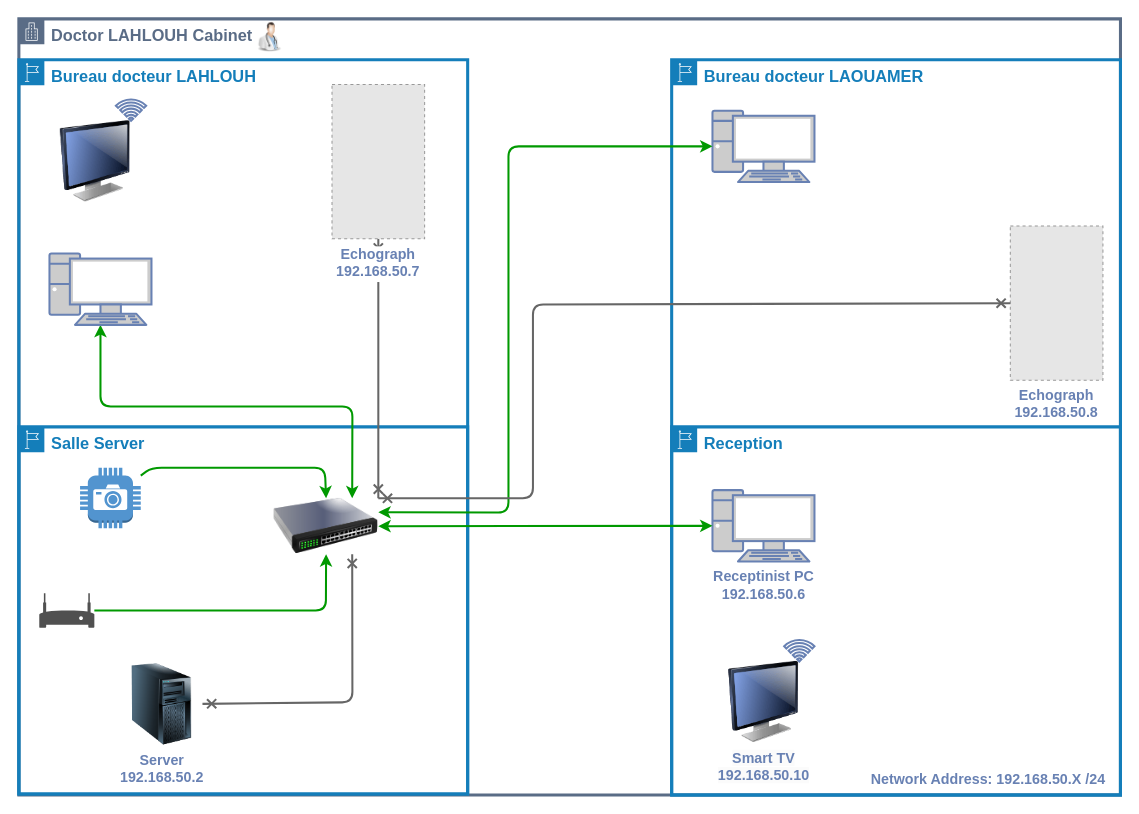
The diagram is 1139 pixels wide and 814 high, and some of its shapes have lost their labels. Grey dashed boxes stand in for pictures. Here are the shapes that lost their labels. From the top down, the centre of each, then its label:
At pixel 95 161: "Smart TV 192.168.50.9".
At pixel 763 146: "Doctor PC 192.168.50.5".
At pixel 100 288: "Doctor PC 192.168.50.4".
At pixel 110 497: "DVR Camera de Surveillance 192.168.50.3".
At pixel 66 610: "Modem ZTE 192.168.50.1".
